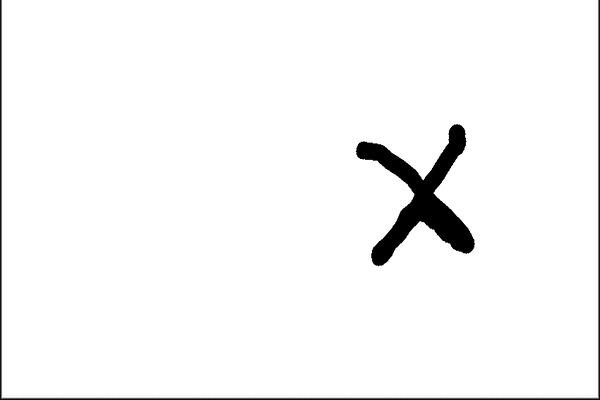X: (320, 106, 494, 292)
